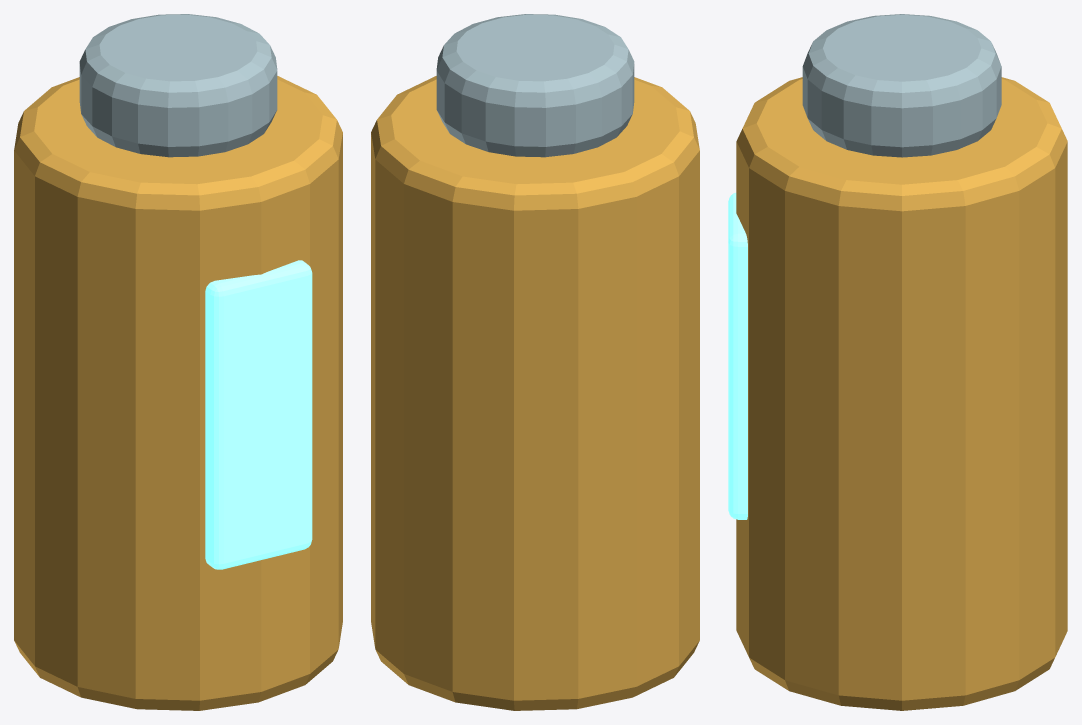
File: SM_LifeCell.fbx
The picture shows the model from 3 angles, left to right: view 1: azimuth 30°, elevation 25°; view 2: azimuth 150°, elevation 25°; view 3: azimuth 270°, elevation 25°; orthographic projection.
Parts seen in each view (by area): view 1: SM_LifeCell; view 2: SM_LifeCell; view 3: SM_LifeCell.
Boxes of the visible parts, left/top/right/bottom form: SM_LifeCell: left=14, top=14, right=342, bottom=710; SM_LifeCell: left=371, top=14, right=699, bottom=710; SM_LifeCell: left=728, top=14, right=1067, bottom=710.
Bounding box in the file's own units: 20 × 20.5 × 40.
